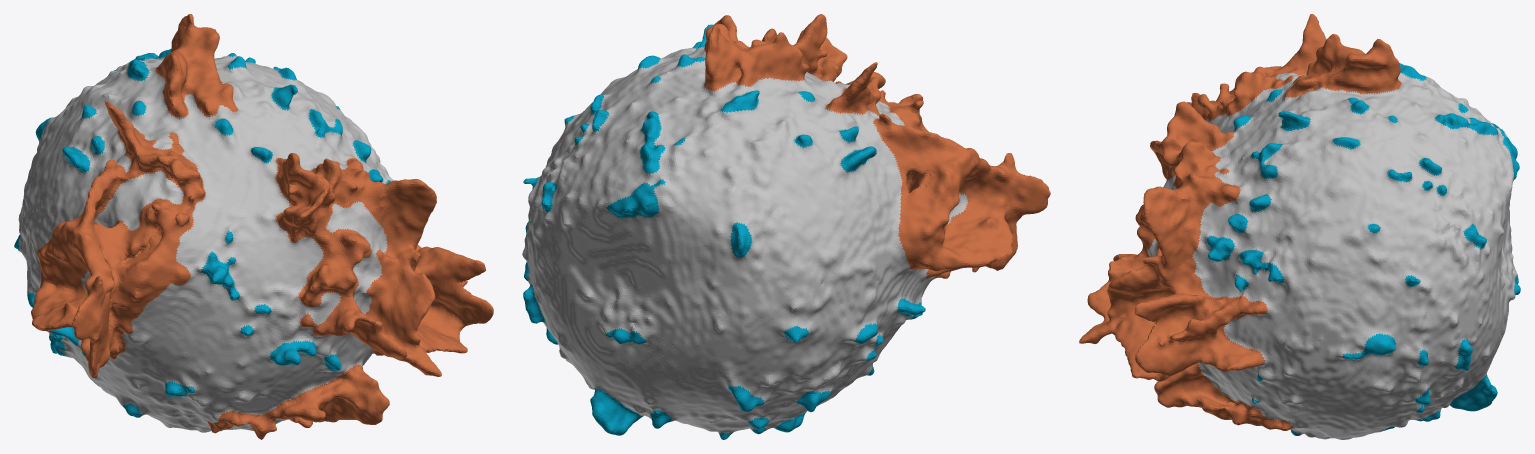
3 views of the same model, side by side, from view 1: azimuth 30°, elevation 25°; view 2: azimuth 150°, elevation 25°; view 3: azimuth 270°, elevation 25° (orthographic). The views are drawn at different scales.
Size of the model in its own units: 175 by 164 by 175.
